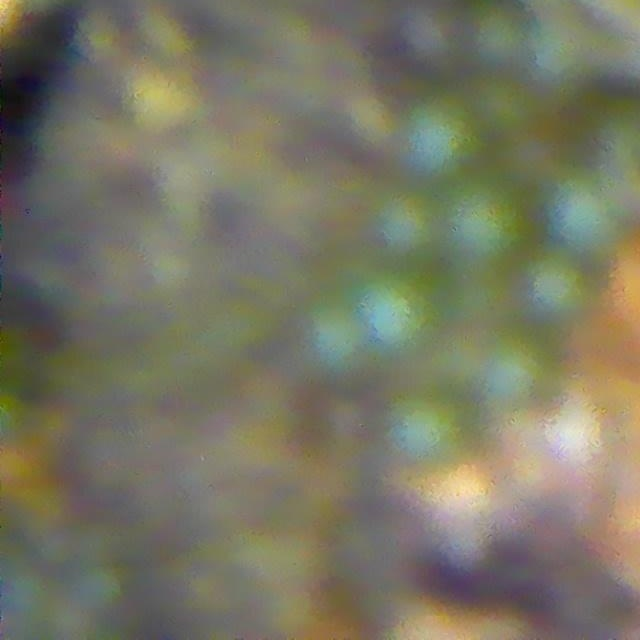SeaGrape: (401, 89, 504, 188), (353, 274, 457, 367), (545, 173, 636, 262), (473, 327, 565, 411), (383, 388, 481, 458), (368, 183, 445, 265), (299, 296, 375, 379), (521, 250, 597, 327), (459, 0, 535, 75), (454, 186, 527, 261), (525, 14, 596, 87)
